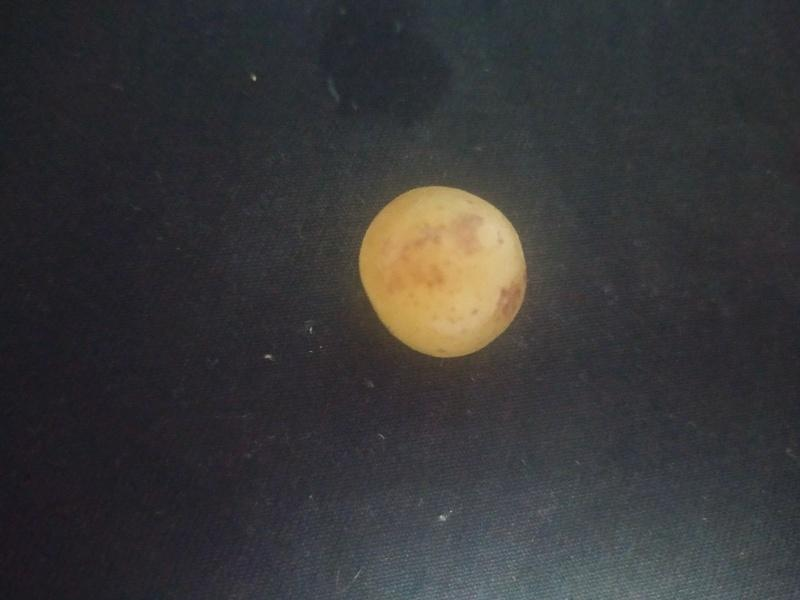Grape Rotten: (356, 182, 530, 362)
